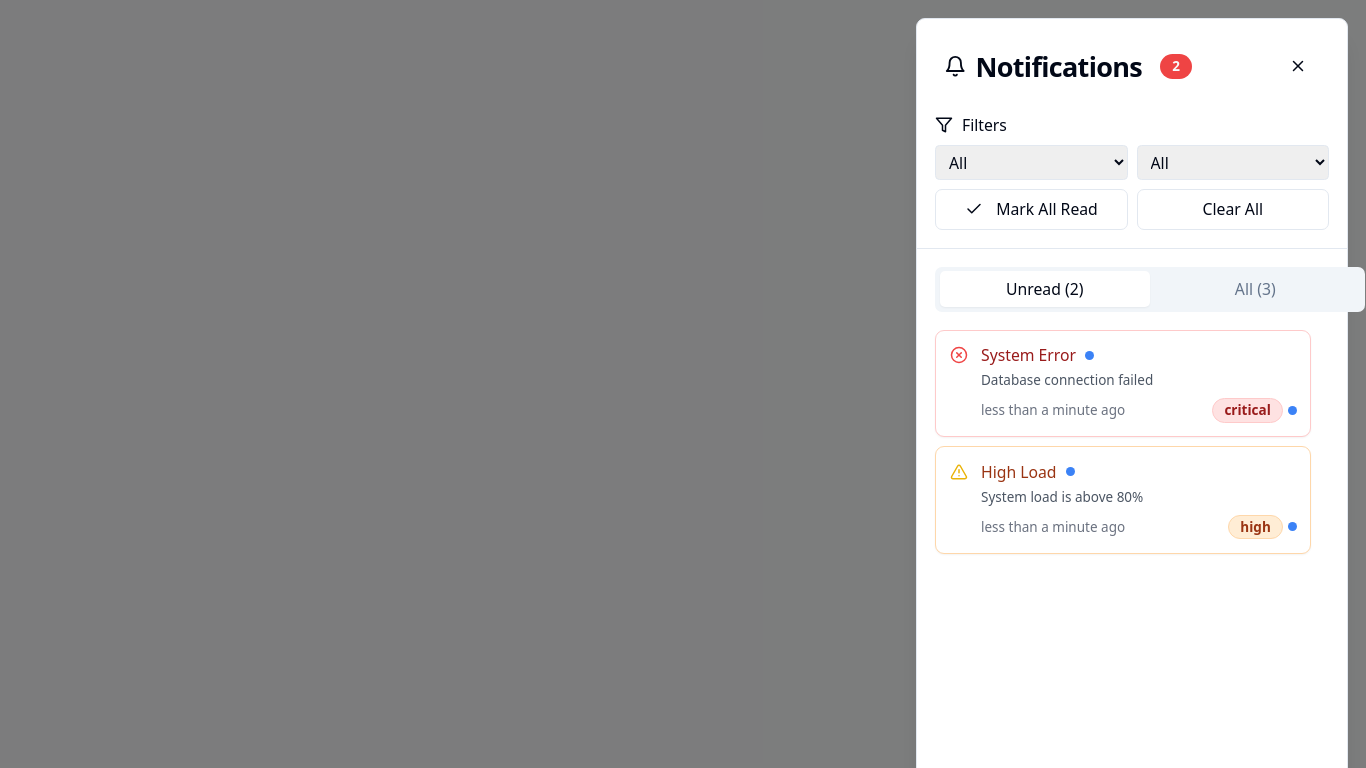
Test case: AdminNotificationCenter › filters notifications by priority
The image size is (1366, 768).
Select "Critical" in the 2nd dropdown showing "All" at [1233, 162], box [1136, 145, 1329, 180]
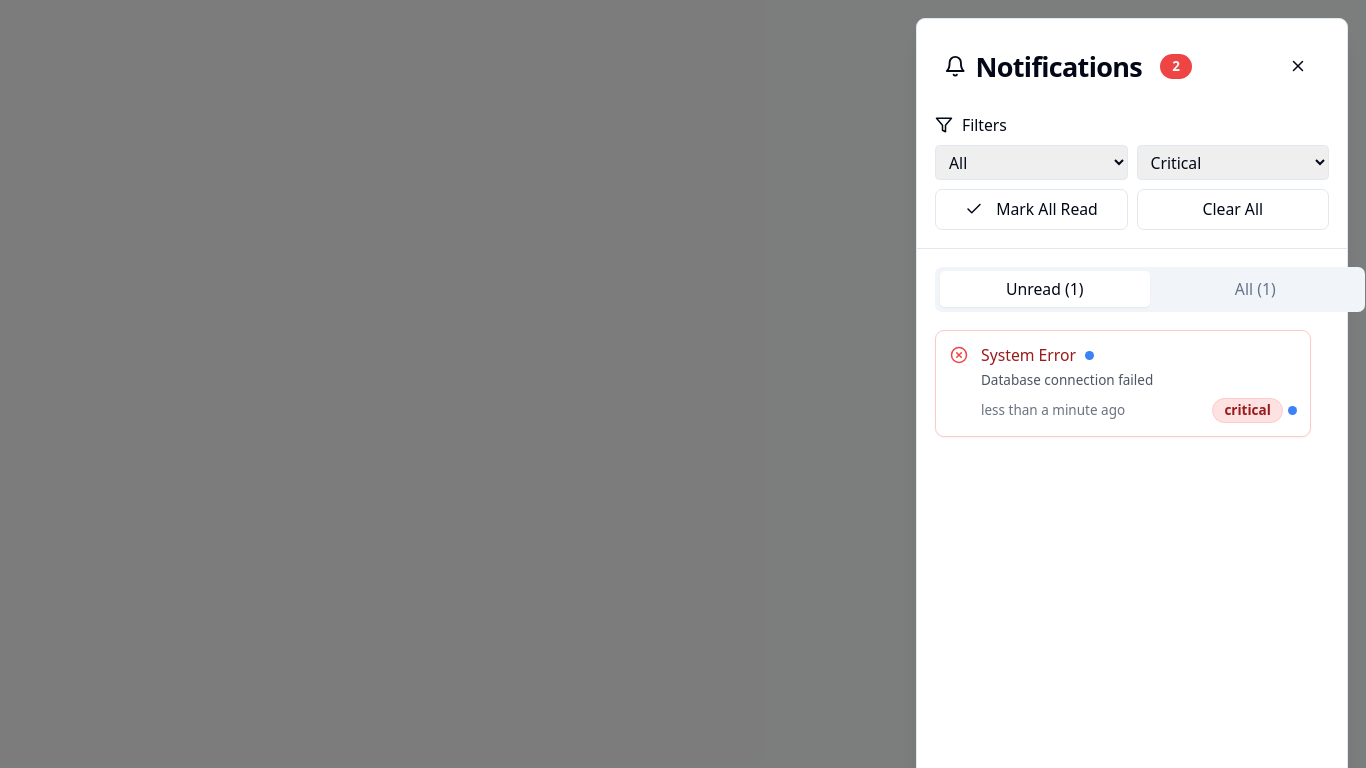
Expected: the heading "System Error" is shown, [981, 344, 1076, 366]
Expected: the heading "High Load" is gone
